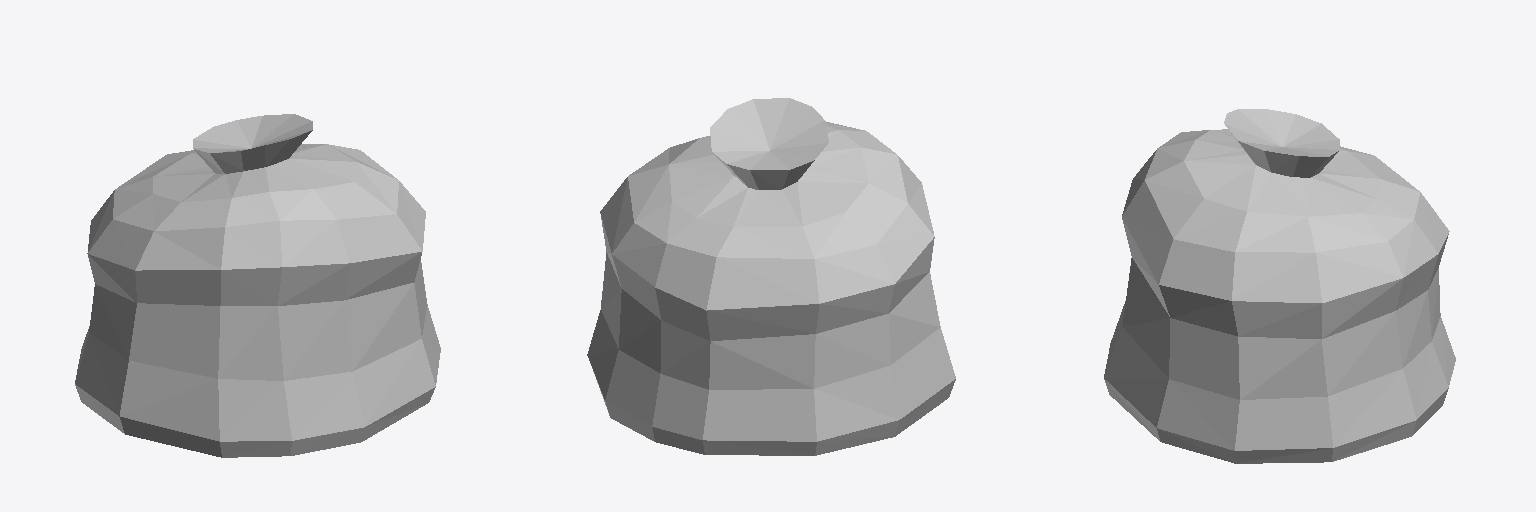
Rendered from trashbag1.obj.
3 renders of one model, left to right at view 1: azimuth 30°, elevation 25°; view 2: azimuth 150°, elevation 25°; view 3: azimuth 270°, elevation 25°, orthographic.
Visible parts, largest first — view 1: trash; view 2: trash; view 3: trash.
Boxes of the visible parts, x1=… form: trash: x1=75, y1=114, x2=440, y2=457; trash: x1=587, y1=98, x2=955, y2=455; trash: x1=1104, y1=109, x2=1455, y2=463.
Size of the model in its own units: 26.67 by 21.34 by 25.07.